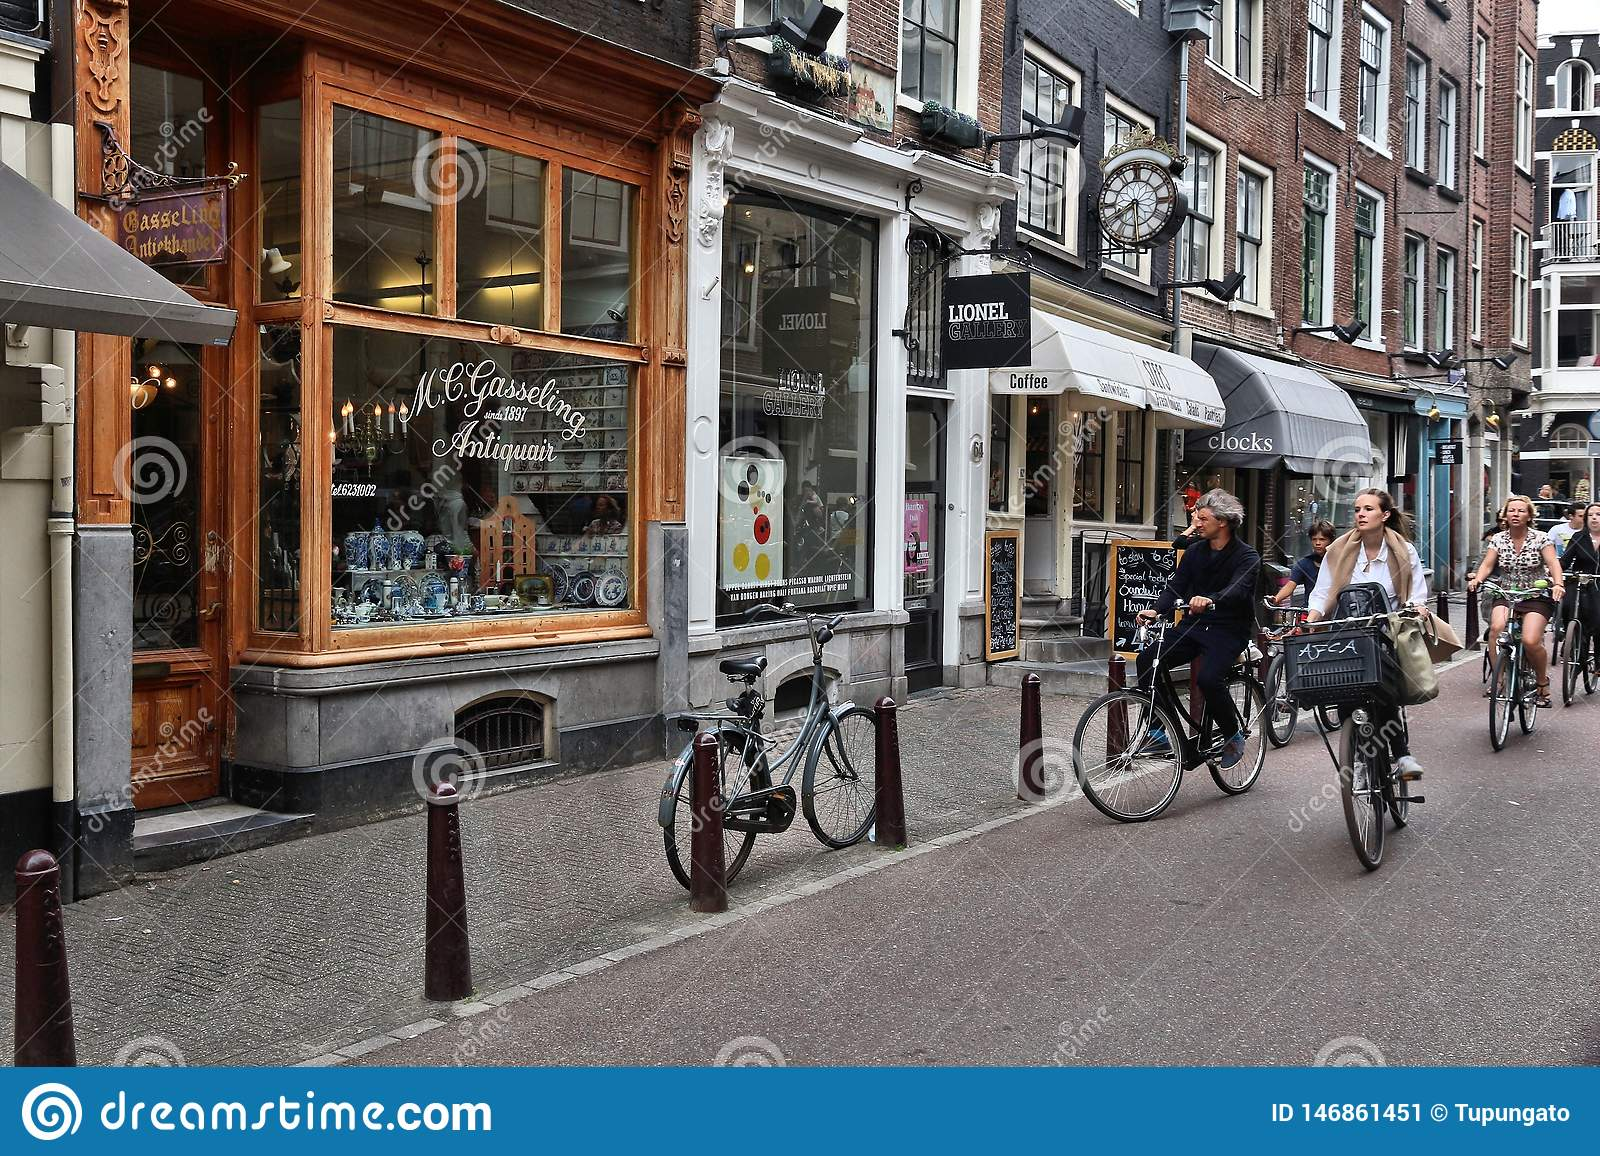commuter: (1071, 492, 1288, 824), (1272, 485, 1453, 875), (1465, 499, 1564, 757)
